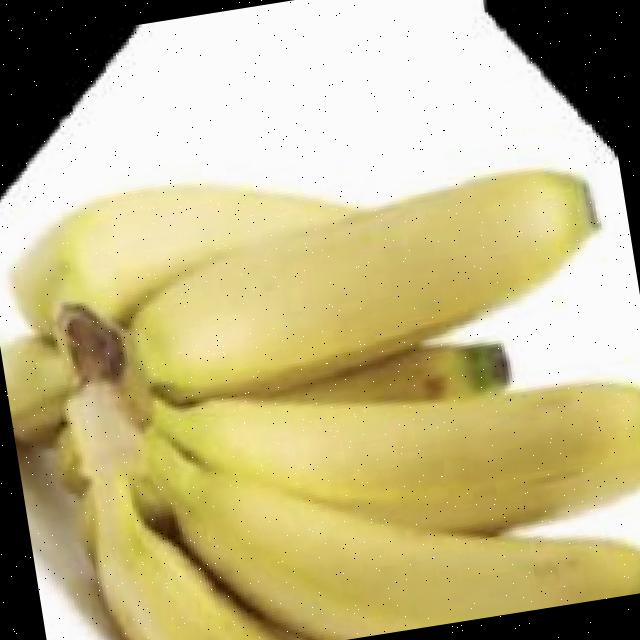banana: (4, 103, 640, 640)
